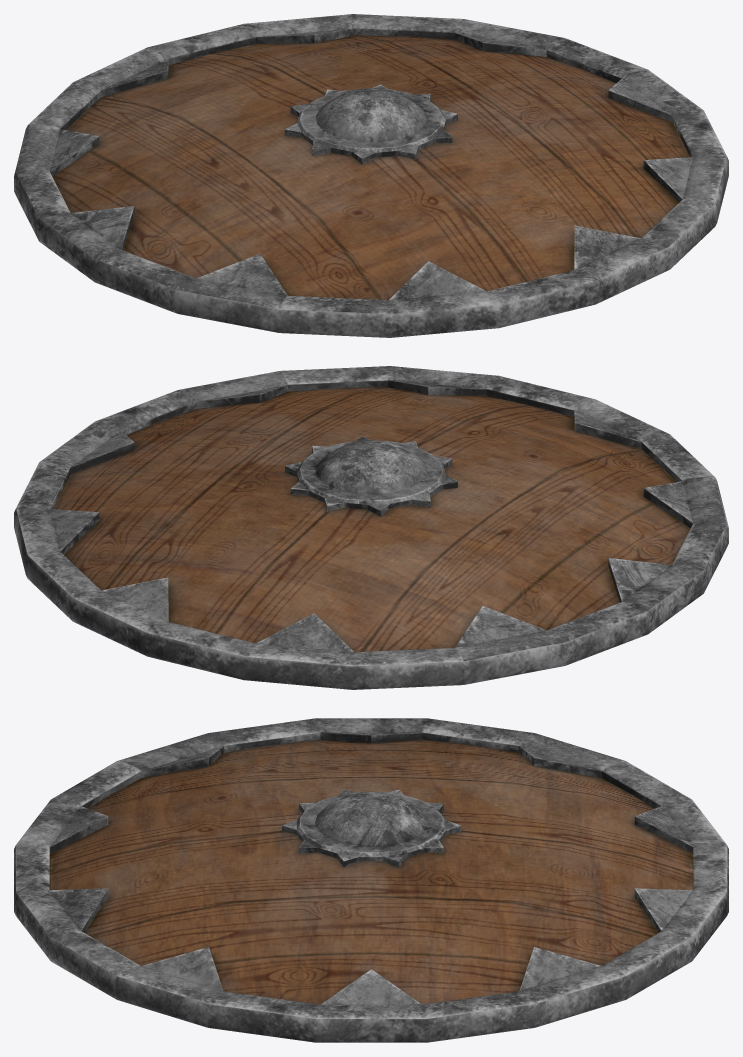
File: shield_of_the_iron_star.glb
The picture shows the model from 3 angles, top to bottom: view 1: azimuth 30°, elevation 25°; view 2: azimuth 150°, elevation 25°; view 3: azimuth 270°, elevation 25°; orthographic projection.
Visible parts, largest first — view 1: Shield_0; view 2: Shield_0; view 3: Shield_0.
Part boxes in pixels (x1,y1,x2,y2): Shield_0: [14, 14, 728, 337]; Shield_0: [14, 366, 728, 689]; Shield_0: [14, 718, 728, 1042].
Bounding box in the file's own units: 2.37 × 0.4 × 2.37.
Materials: 1 (1 with a texture image).
